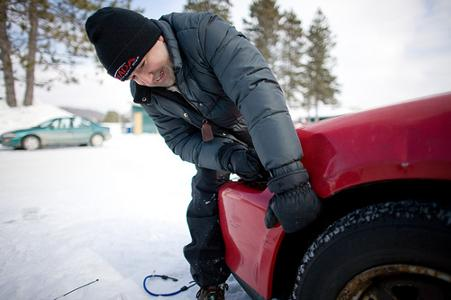person: (85, 7, 326, 300)
